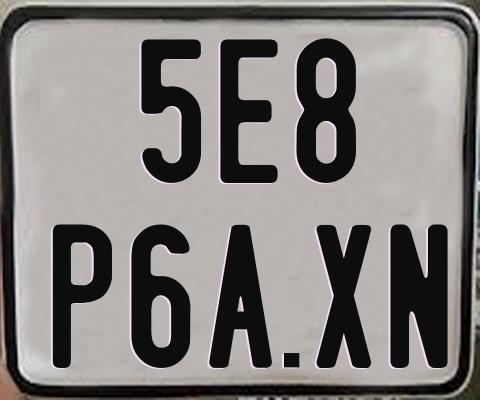5: (139, 38, 204, 186)
6: (131, 224, 196, 371)
8: (296, 37, 358, 186)
A: (207, 223, 274, 366)
E: (218, 36, 280, 184)
N: (390, 224, 454, 372)
P: (52, 223, 113, 370)
X: (316, 225, 373, 371)
